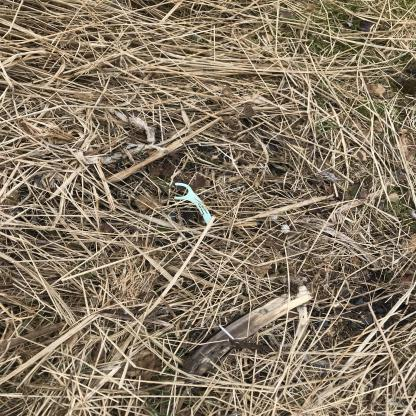Other plastic bottle: (174, 183, 213, 225)
Styrofoam piece: (280, 225, 289, 234), (270, 216, 278, 220)
